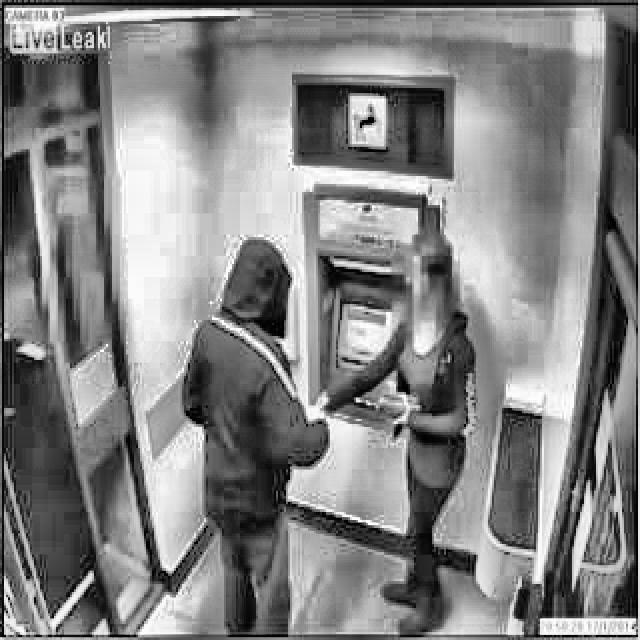robbery: (181, 227, 479, 634)
